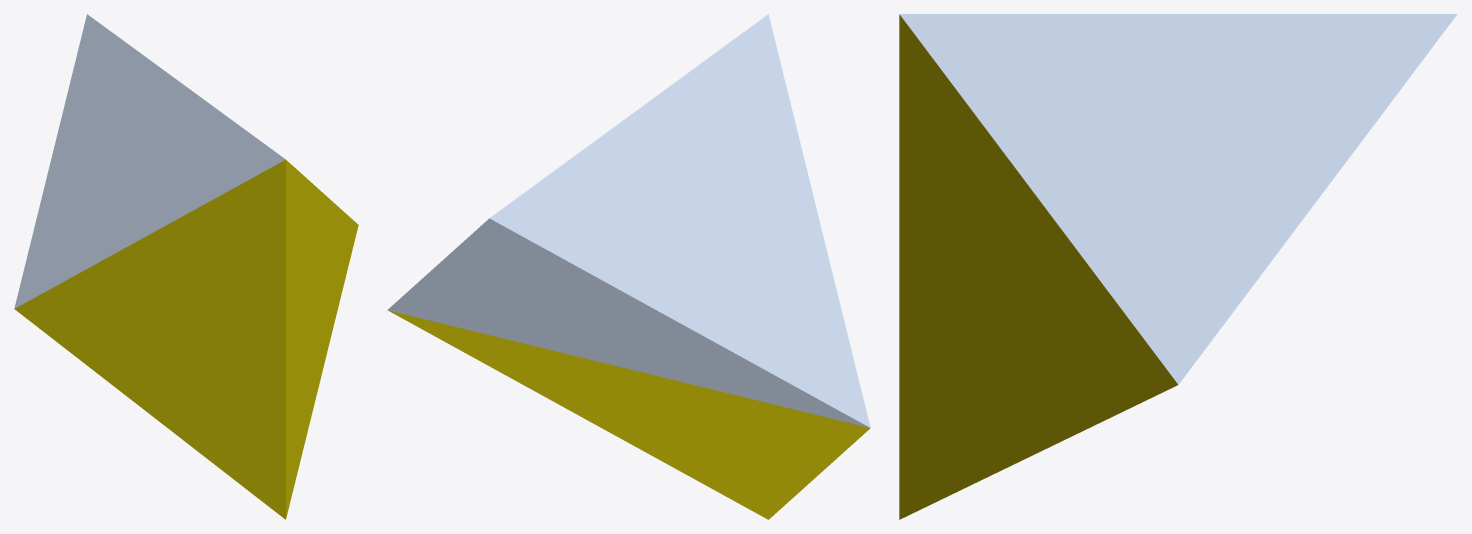
The model's file is TetragonalDisphenoidal_2_1.glb.
3 views of the same model, side by side, from view 1: azimuth 30°, elevation 25°; view 2: azimuth 150°, elevation 25°; view 3: azimuth 270°, elevation 25° (orthographic). The views are drawn at different scales.
Bounding box in the file's own units: 4 × 4 × 4.
